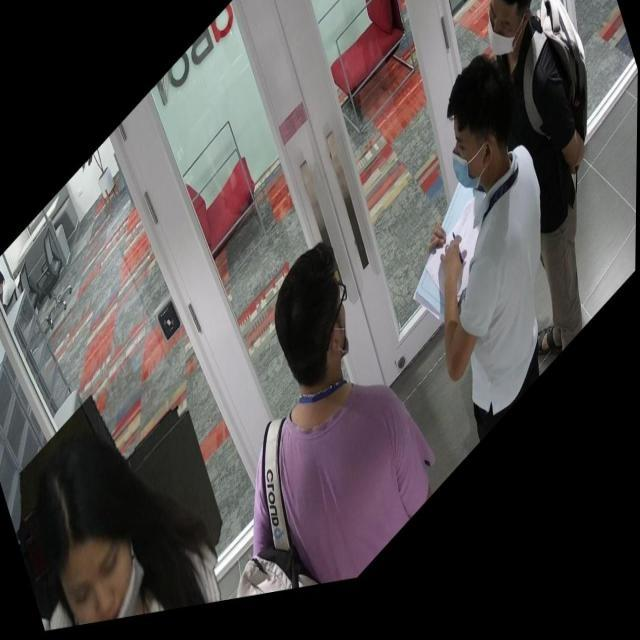hairnet: (64, 518, 142, 625)
